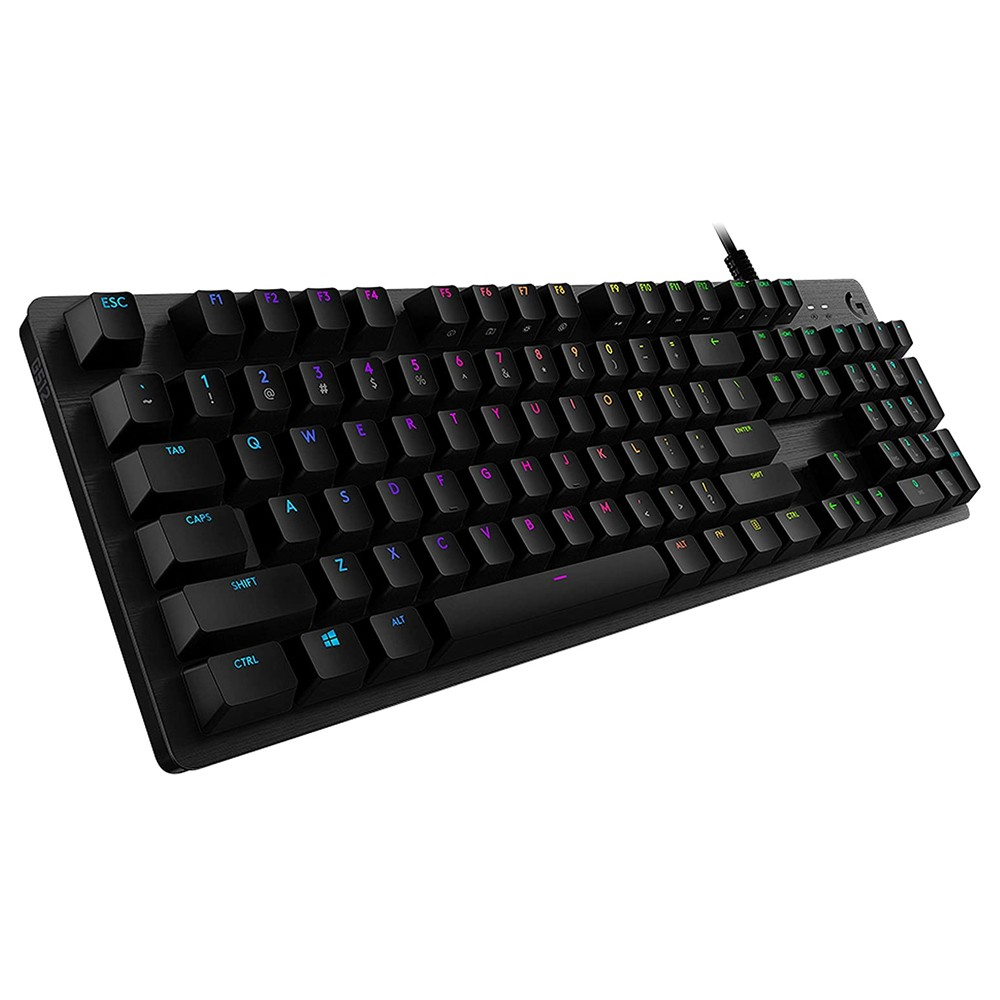keyboard: (14, 260, 982, 779)
